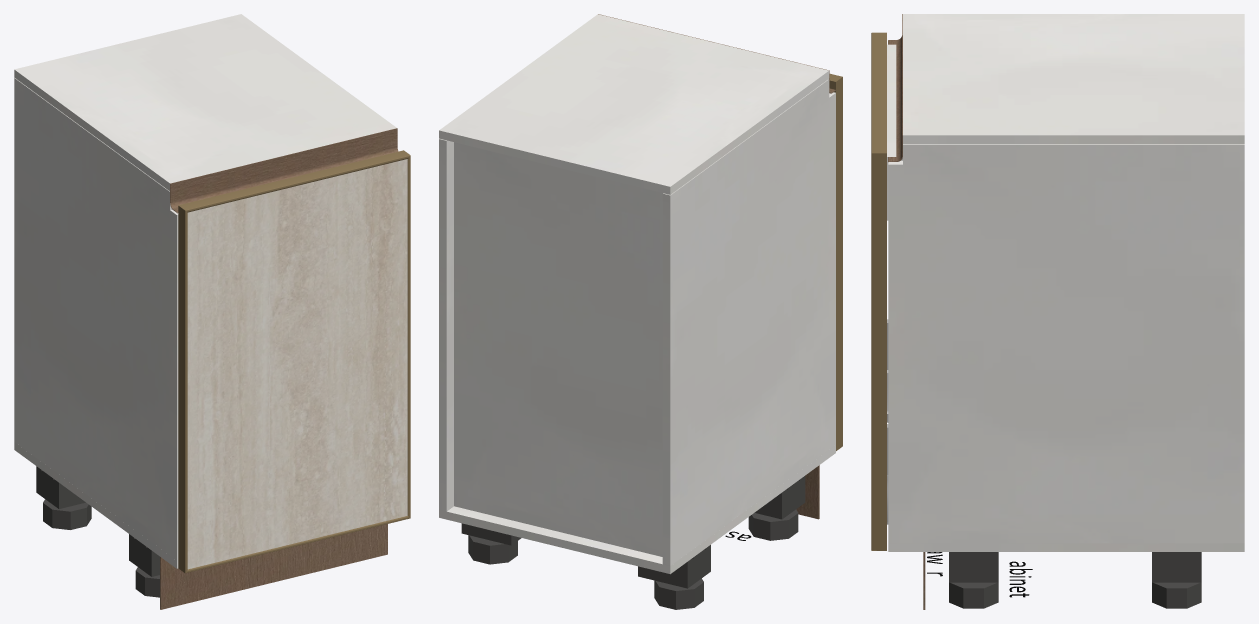
Rendered from BC-GD-CJ-ST-1BL-1HF-XXX-450-720-560-15.glb.
The picture shows the model from 3 angles, left to right: view 1: azimuth 30°, elevation 25°; view 2: azimuth 150°, elevation 25°; view 3: azimuth 270°, elevation 25°; orthographic projection. The views are drawn at different scales.
Visible parts, largest first — view 1: Object_node_60, TP_node, TP_node_1, Object_node_62, ExtrSplGeo, Extrusion_node_1, Extrusion, Extrusion_node, TP, Foot, Plate, Extrusion_node_0 (+2 smaller); view 2: TP_node_7, TP_node, TP_node_1, TP_node_0, TP, Extrusion_node_1, Plate, Foot_node_0, Foot, Foot_node, Plate_node_0, Object_node_62 (+1 smaller); view 3: TP_node_0, TP_node_1, Extrusion_node, TP, Extrusion, Plate_node, Plate_node_1, Foot_node_1, Foot_node, TP_node_6, ExtrSplGeo, 2D text_node_1.
Part boxes in pixels (x1,y1,x2,y2): Object_node_60: [187, 159, 407, 569]; TP_node: [14, 78, 178, 560]; TP_node_1: [14, 14, 396, 190]; Object_node_62: [160, 524, 387, 609]; ExtrSplGeo: [170, 128, 398, 213]; Extrusion_node_1: [178, 206, 187, 573]; Extrusion: [178, 150, 410, 212]; Extrusion_node: [407, 156, 410, 517]; TP: [14, 442, 178, 568]; Foot: [43, 499, 91, 529]; Plate: [36, 466, 85, 508]; Extrusion_node_0: [186, 516, 410, 572]; TP_node_7: [454, 142, 662, 556]; TP_node: [662, 79, 835, 565]; TP_node_1: [439, 14, 829, 194]; TP_node_0: [439, 138, 453, 511]; TP: [439, 445, 835, 574]; Extrusion_node_1: [829, 77, 842, 450]; Plate: [638, 545, 710, 588]; Foot_node_0: [748, 509, 798, 540]; Foot: [654, 578, 703, 609]; Foot_node: [468, 535, 517, 564]; Plate_node_0: [754, 476, 805, 519]; Object_node_62: [796, 465, 819, 519]; TP_node_0: [888, 144, 1244, 543]; TP_node_1: [903, 14, 1244, 143]; Extrusion_node: [871, 153, 886, 550]; TP: [888, 543, 1244, 551]; Extrusion: [871, 32, 886, 153]; Plate_node: [1152, 552, 1201, 582]; Plate_node_1: [949, 552, 998, 582]; Foot_node_1: [949, 582, 998, 608]; Foot_node: [1152, 582, 1201, 608]; TP_node_6: [887, 44, 896, 220]; ExtrSplGeo: [888, 14, 902, 162]; 2D text_node_1: [927, 552, 1032, 597].
Size of what is drawn, in the model's own units: 0.45 by 0.82 by 0.5842.
Materials: 8 (3 with a texture image).
